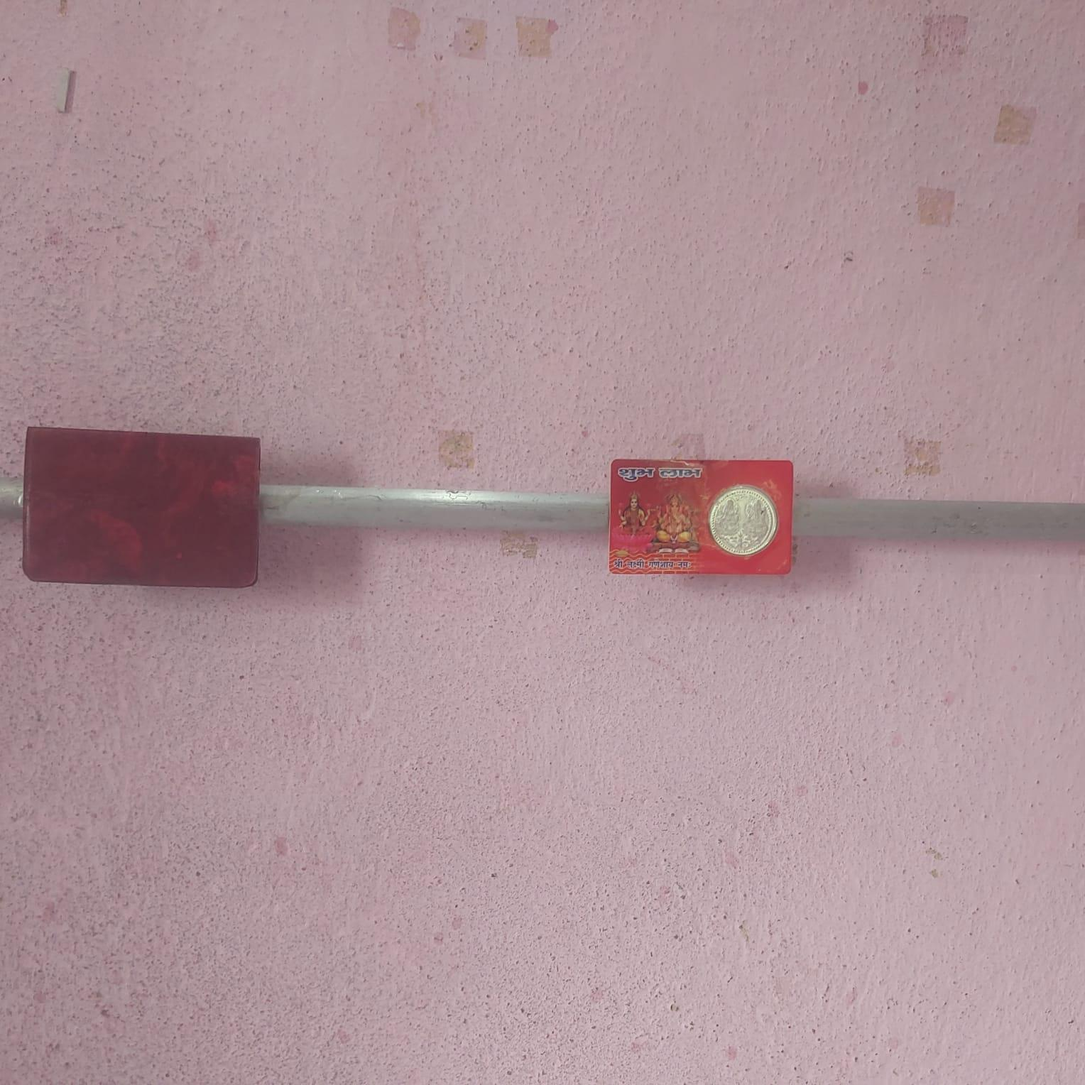blessing_card: (606, 450, 798, 583)
wallet: (27, 422, 265, 592)
